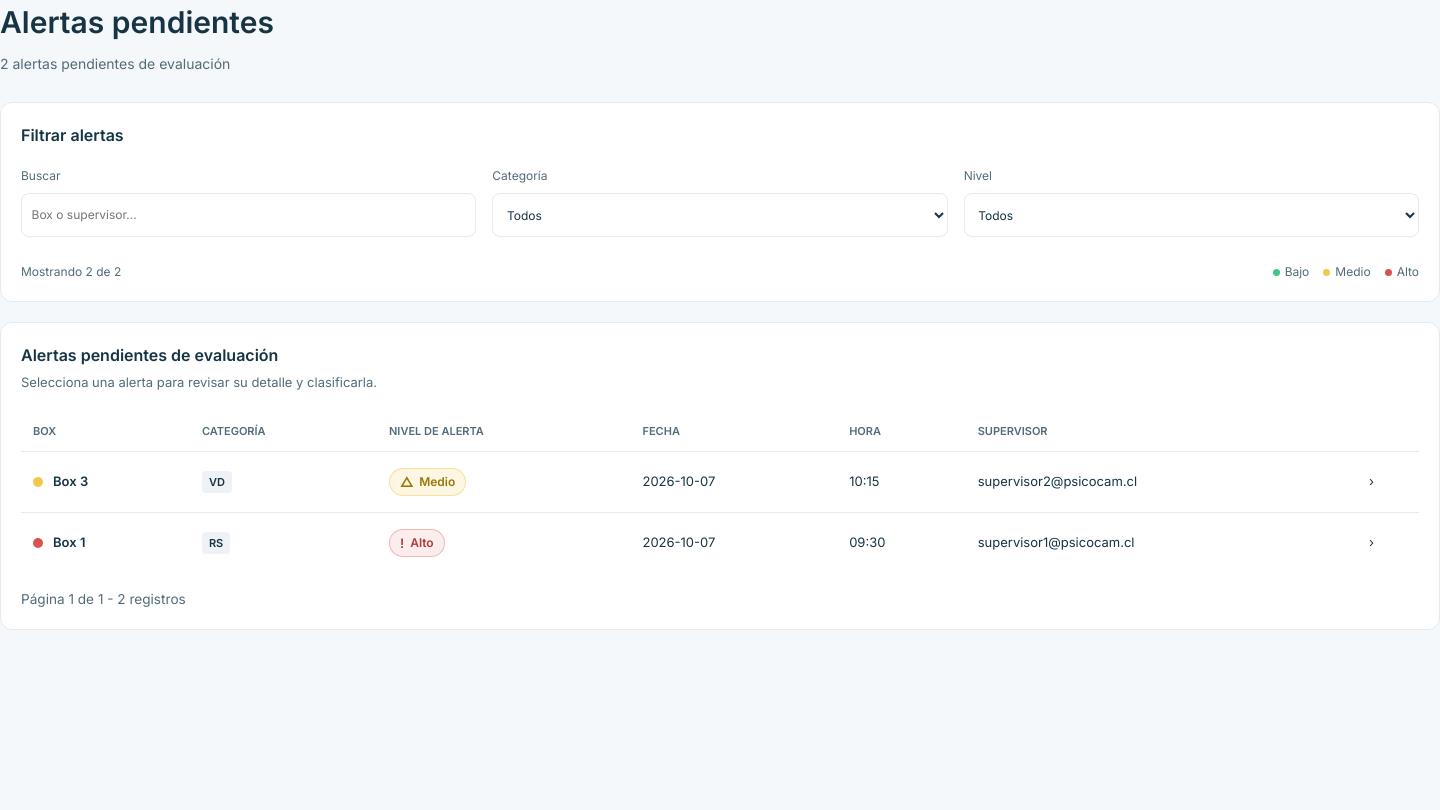
Test case: SCRUM-602 - Página Alertas › abre el detalle de una alerta pendiente
Click the text "supervisor1@psicocam.cl": (1056, 542) [966,512,1357,573]
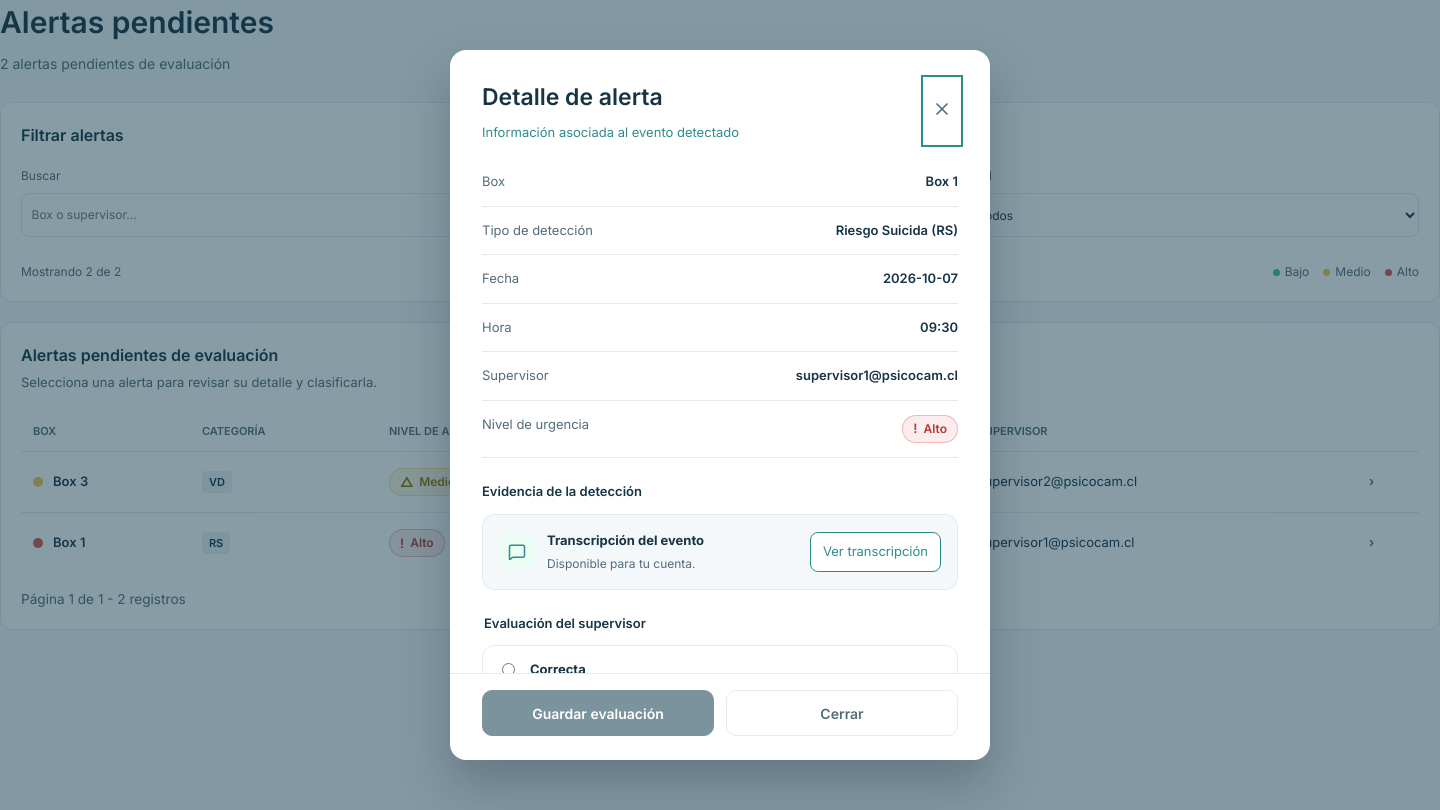
Result: the dialog is shown at [450,50,990,760]
Result: the text "Riesgo Suicida (RS)" is shown at [836,220,958,240]
Result: the button "Ver transcripción" is shown at [810,532,941,572]
